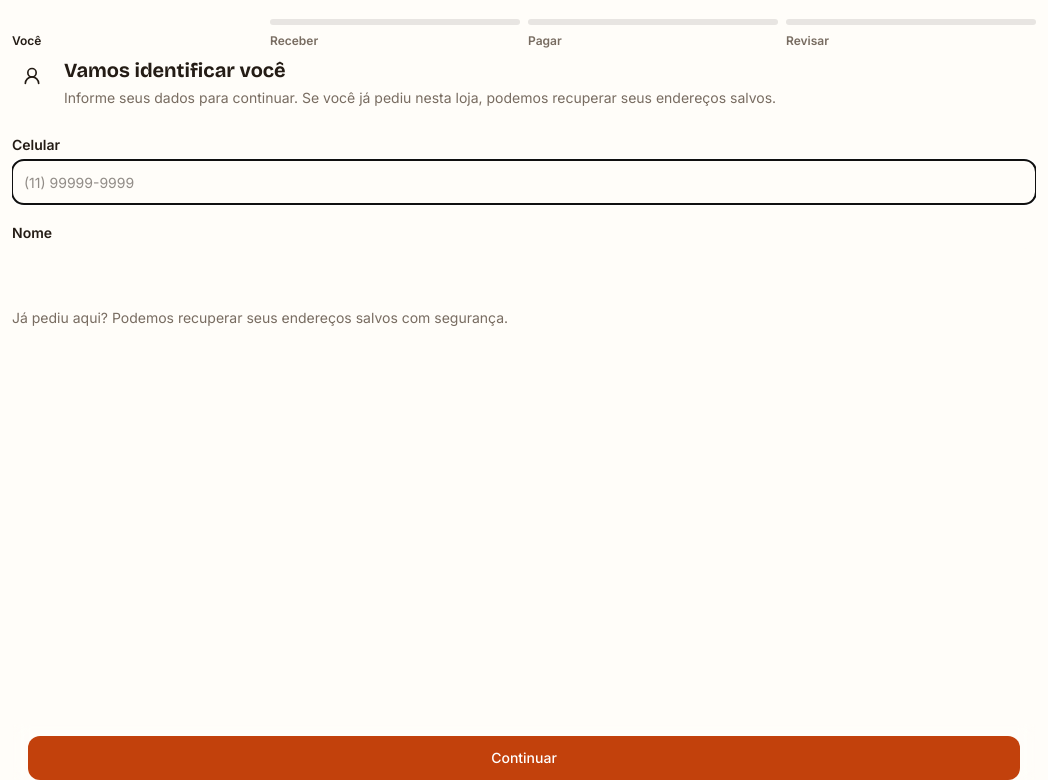
it: checkout público v2 › aplica máscara nacional e registra o início sem enviar dados pessoais
Type "+55 11 99999-9999" into the field labelled "Celular" at [524, 182], box [12,160,1036,204]
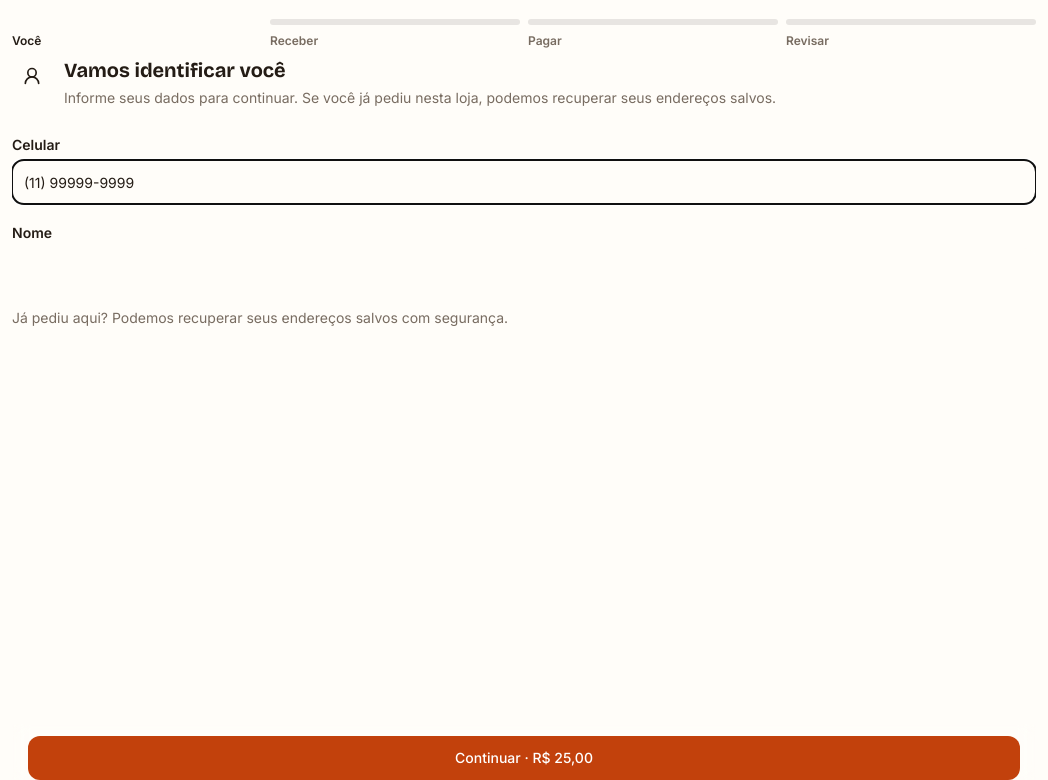
Expected: the field labelled "Celular" holds "(11) 99999-9999", [12,160,1036,204]
